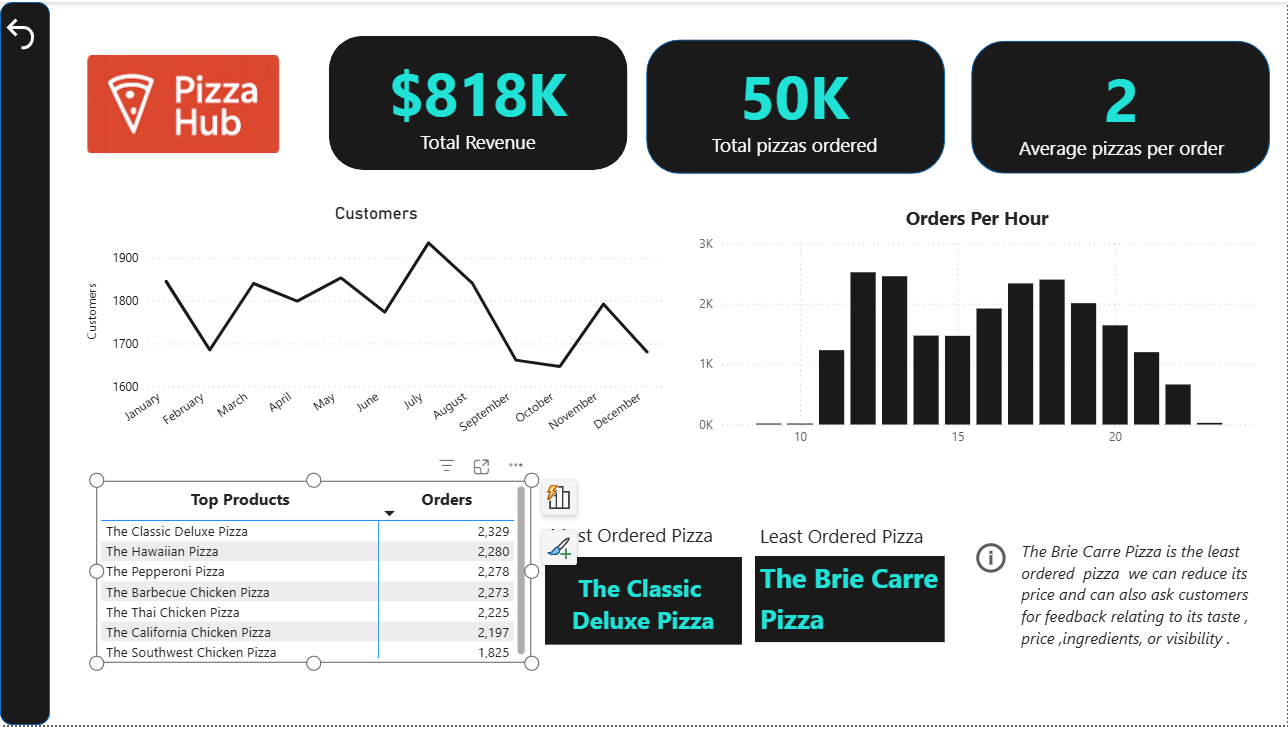

What the dashboard file says about the page in this screenshot:
{"tool":"powerbi","page":{"name":"Page 1","canvas":[1280,720],"ordinal":0},"visuals":[{"type":"shape","box":[327.5,33.8,297.2,133.5],"z":0},{"type":"shape","box":[967.1,38.4,297.2,132.3],"z":1000},{"type":"lineChart","title":"Customers ","fields":{"Y":["Measure.Customers"],"Category":["orders.date.Variation.Date Hierarchy.Month","orders.date.Variation.Date Hierarchy.Day"]},"box":[82.5,200.5,584.5,250.3],"z":2000},{"type":"clusteredColumnChart","title":" Orders Per Hour","fields":{"Category":["orders.Hour"],"Y":["Measure.Number of orders"]},"box":[690.6,201.1,564.2,249.2],"z":3000},{"type":"pivotTable","fields":{"Rows":["pizza_types.name"],"Values":["Measure.Number of orders"]},"box":[96.1,477,432.5,181.5],"z":4000},{"type":"card","fields":{"Values":["Measure.Total Revenue"]},"box":[343.5,33.8,265.2,133.5],"z":5000},{"type":"card","fields":{"Values":["Measure.average pizzas per order"]},"box":[992.7,41.2,247.5,129.4],"z":6000},{"type":"shape","box":[642.8,37,297.2,133.7],"z":7000},{"type":"card","fields":{"Values":["Measure.total pizzas ordered"]},"box":[658.5,32.7,266,140.8],"z":8000},{"type":"card","fields":{"Values":["Min(pizza_types.Top Products)"]},"box":[542.8,551.7,195.8,87.2],"z":9000},{"type":"textbox","box":[542.8,512.6,247.4,37.4],"z":10000},{"type":"textbox","box":[751.1,550,188.7,87.2],"z":11000},{"type":"textbox","box":[751.1,514.4,188.7,37.4],"z":12000},{"type":"actionButton","box":[966.4,533.9,40.9,39.2],"z":13000},{"type":"textbox","box":[996.7,530.4,272.3,124.6],"z":14000},{"type":"shape","box":[0,0,49.8,719.6],"z":14001},{"type":"actionButton","box":[0,10.7,99.7,40.9],"z":14002},{"type":"image","box":[81.9,8.9,202.9,185.1],"z":14003}]}

Visuals, with their boxes on the page's 1280x720 design canvas (x1, y1, x2, y2). These are canvas units, not pixel positions in the 1288x731 screenshot, which may show the page scaled, cropped or inside an application window:
shape: (left=328, top=34, right=625, bottom=167)
shape: (left=967, top=38, right=1264, bottom=171)
"Customers " lineChart: (left=82, top=200, right=667, bottom=451)
" Orders Per Hour" clusteredColumnChart: (left=691, top=201, right=1255, bottom=450)
pivotTable - pizza_types.name x Measure.Number of orders: (left=96, top=477, right=529, bottom=658)
card - Measure.Total Revenue: (left=344, top=34, right=609, bottom=167)
card - Measure.average pizzas per order: (left=993, top=41, right=1240, bottom=171)
shape: (left=643, top=37, right=940, bottom=171)
card - Measure.total pizzas ordered: (left=658, top=33, right=924, bottom=174)
card - Min(pizza_types.Top Products): (left=543, top=552, right=739, bottom=639)
textbox: (left=543, top=513, right=790, bottom=550)
textbox: (left=751, top=550, right=940, bottom=637)
textbox: (left=751, top=514, right=940, bottom=552)
actionButton: (left=966, top=534, right=1007, bottom=573)
textbox: (left=997, top=530, right=1269, bottom=655)
shape: (left=0, top=0, right=50, bottom=720)
actionButton: (left=0, top=11, right=100, bottom=52)
image: (left=82, top=9, right=285, bottom=194)
